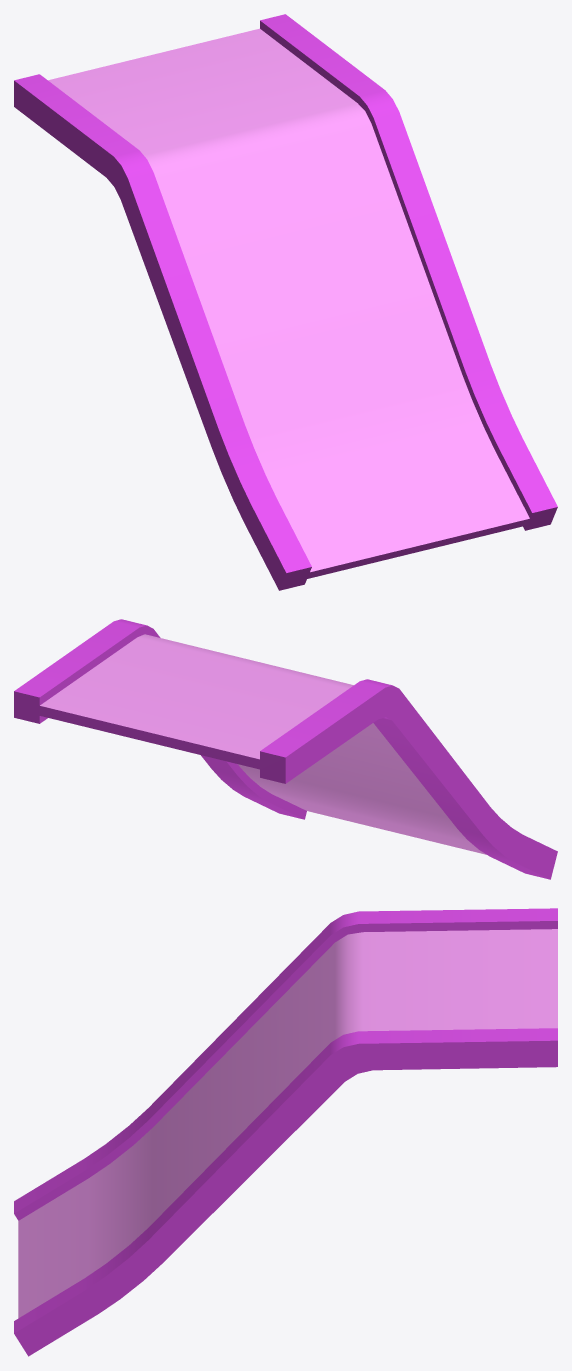
File: Ground5.fbx
The picture shows the model from 3 angles, top to bottom: view 1: azimuth 30°, elevation 25°; view 2: azimuth 150°, elevation 25°; view 3: azimuth 270°, elevation 25°; orthographic projection.
Visible parts, largest first — view 1: Cube.021; view 2: Cube.021; view 3: Cube.021.
Part boxes in pixels (x1,y1,x2,y2): Cube.021: [14, 14, 557, 590]; Cube.021: [14, 619, 557, 879]; Cube.021: [14, 908, 557, 1356].
Size of the model in its own units: 6.28 by 10.9 by 6.99.
